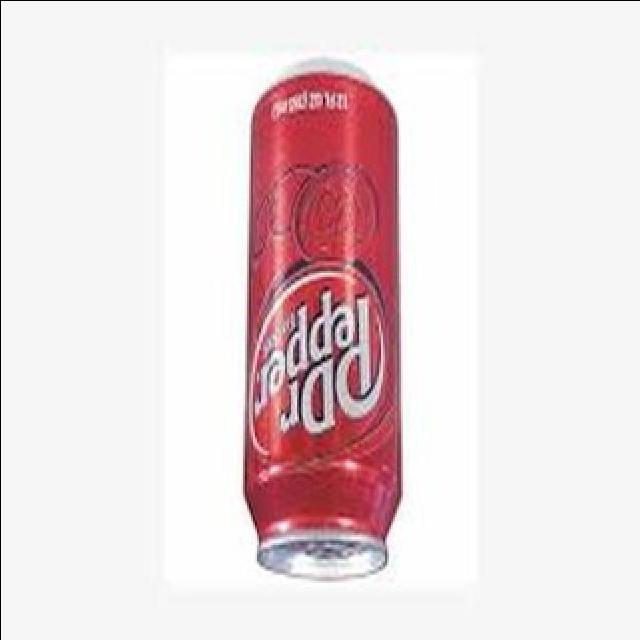can: (237, 54, 403, 582)
